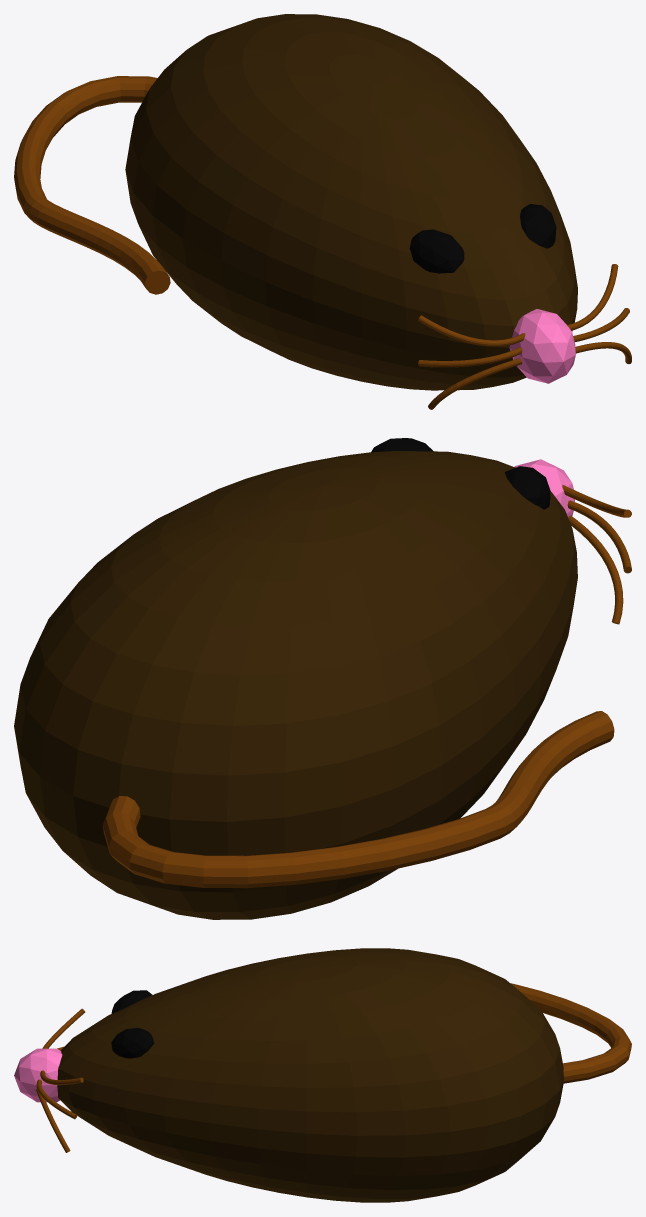
File: Rat.fbx
3 views of the same model, one above another, from view 1: azimuth 30°, elevation 25°; view 2: azimuth 150°, elevation 25°; view 3: azimuth 270°, elevation 25° (orthographic). The views are drawn at different scales.
Visible parts, largest first — view 1: BezierCurve; view 2: BezierCurve; view 3: BezierCurve.
Boxes of the visible parts, x1,y1,x2,y2 form: BezierCurve: (14,14,631,409); BezierCurve: (14,438,631,919); BezierCurve: (14,948,631,1202).
Bounding box in the file's own units: 213 × 144 × 359.
